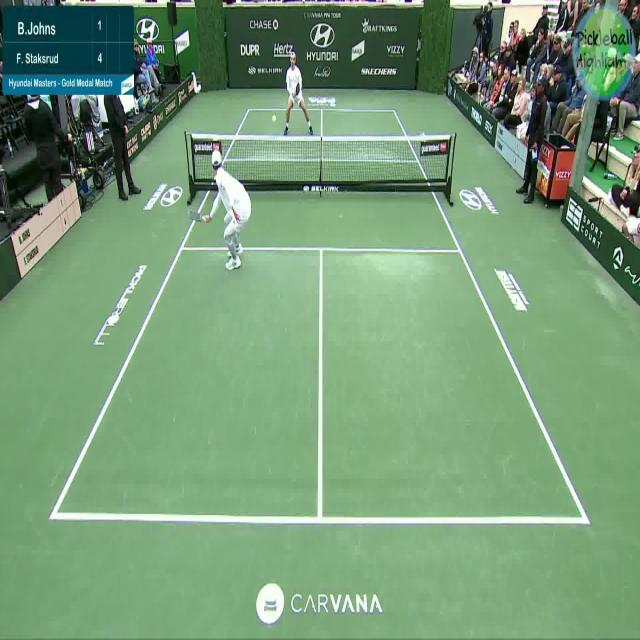ball: (266, 108, 282, 129)
